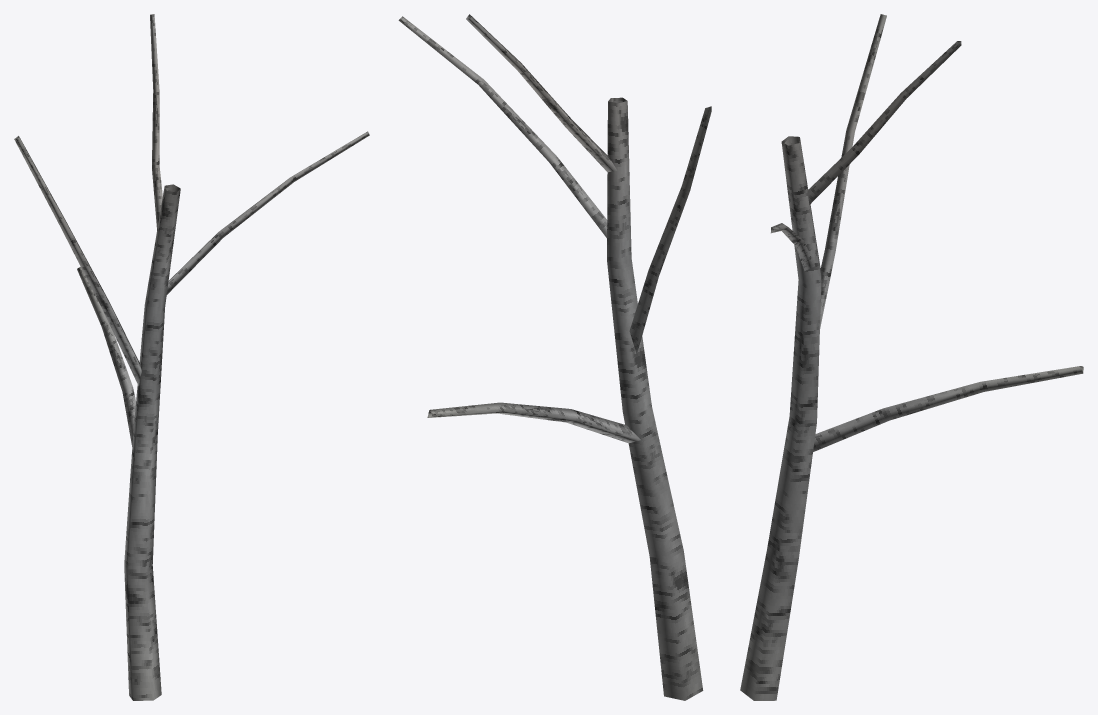
Rendered from sapling_bark_l1.gltf.
3 views of the same model, side by side, from view 1: azimuth 30°, elevation 25°; view 2: azimuth 150°, elevation 25°; view 3: azimuth 270°, elevation 25° (orthographic). The views are drawn at different scales.
Visible parts, largest first — view 1: sapling_bark_l1; view 2: sapling_bark_l1; view 3: sapling_bark_l1.
Boxes of the visible parts, x1=… form: sapling_bark_l1: x1=14, y1=14, x2=369, y2=700; sapling_bark_l1: x1=398, y1=14, x2=711, y2=700; sapling_bark_l1: x1=740, y1=14, x2=1083, y2=700.
Size of the model in its own units: 2.13 by 3.99 by 1.75.
Materials: 1 (1 with a texture image).
